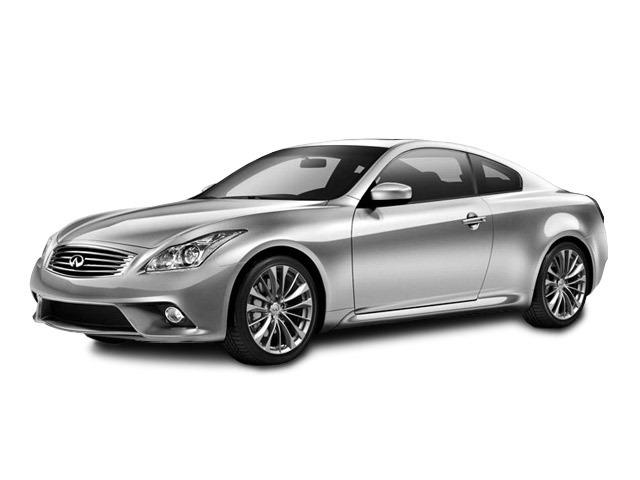car: (31, 138, 608, 371)
